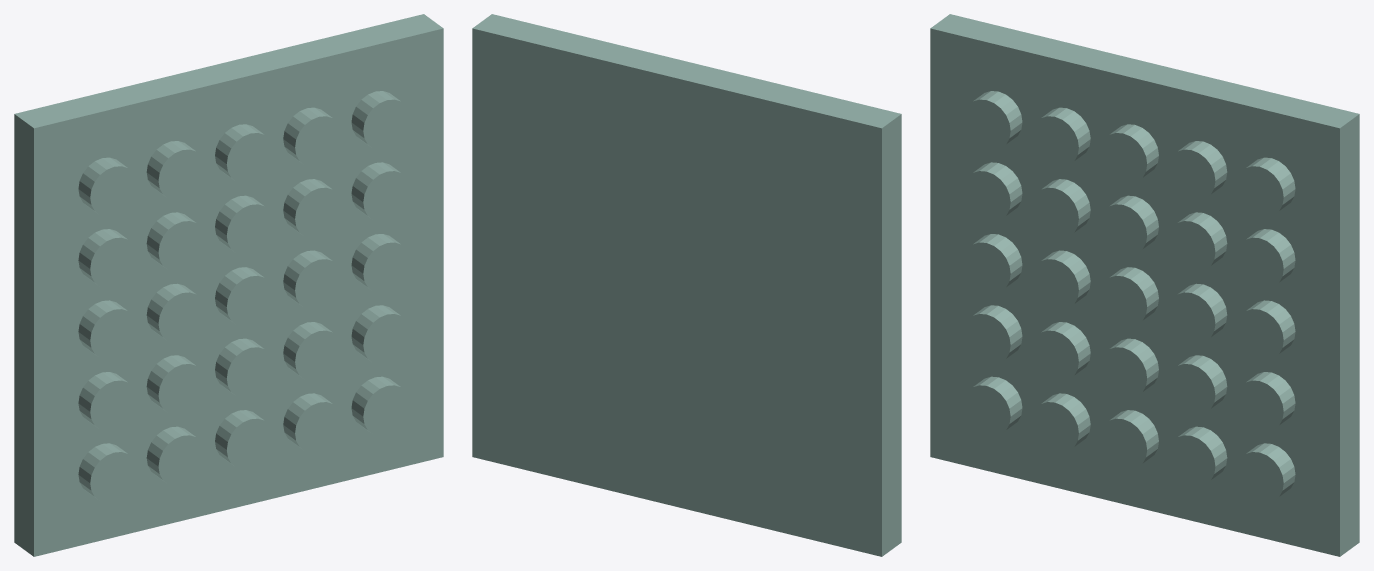
The model's file is baseplate.glb.
3 views of the same model, side by side, from view 1: azimuth 30°, elevation 25°; view 2: azimuth 150°, elevation 25°; view 3: azimuth 330°, elevation 25° (orthographic).
Parts seen in each view (by area): view 1: world; view 2: world; view 3: world.
Boxes of the visible parts, box(x1,y1,x2,y2) form: world: box(14, 14, 443, 556); world: box(472, 14, 901, 556); world: box(930, 14, 1359, 556).
Size of the model in its own units: 0.12 by 0.12 by 0.016.
